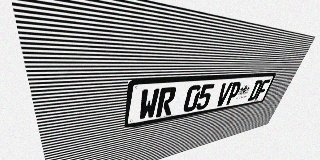0: (182, 85, 202, 113)
5: (195, 84, 215, 110)
D: (247, 80, 264, 101)
F: (255, 79, 271, 100)
P: (225, 81, 243, 105)
R: (156, 87, 177, 117)
V: (214, 82, 233, 107)
W: (138, 88, 160, 121)
